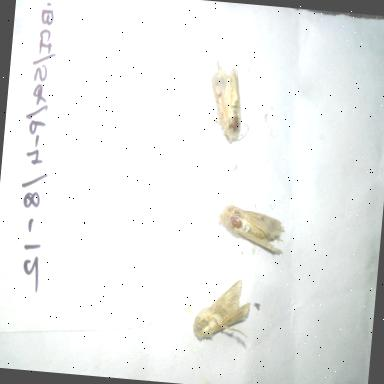abw: (210, 196, 295, 263), (189, 272, 257, 352), (202, 56, 258, 148)
